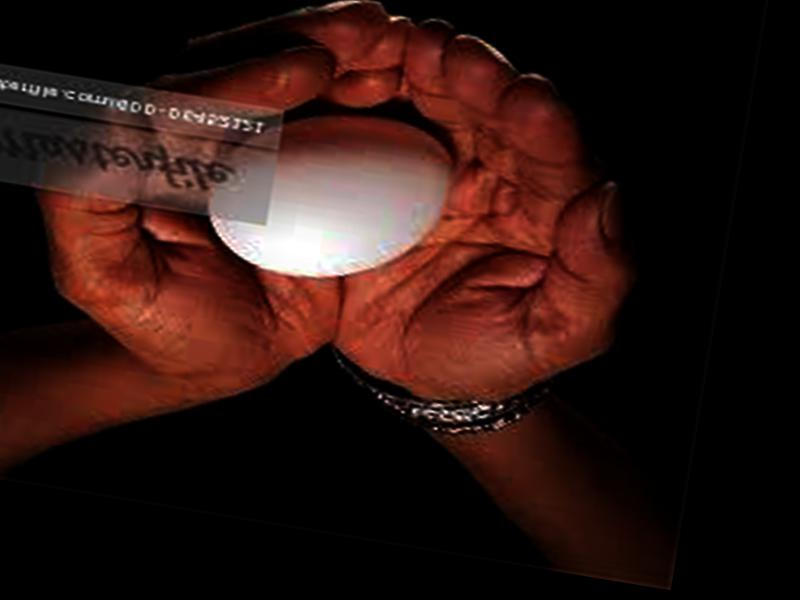Eggs: (207, 90, 462, 296)
